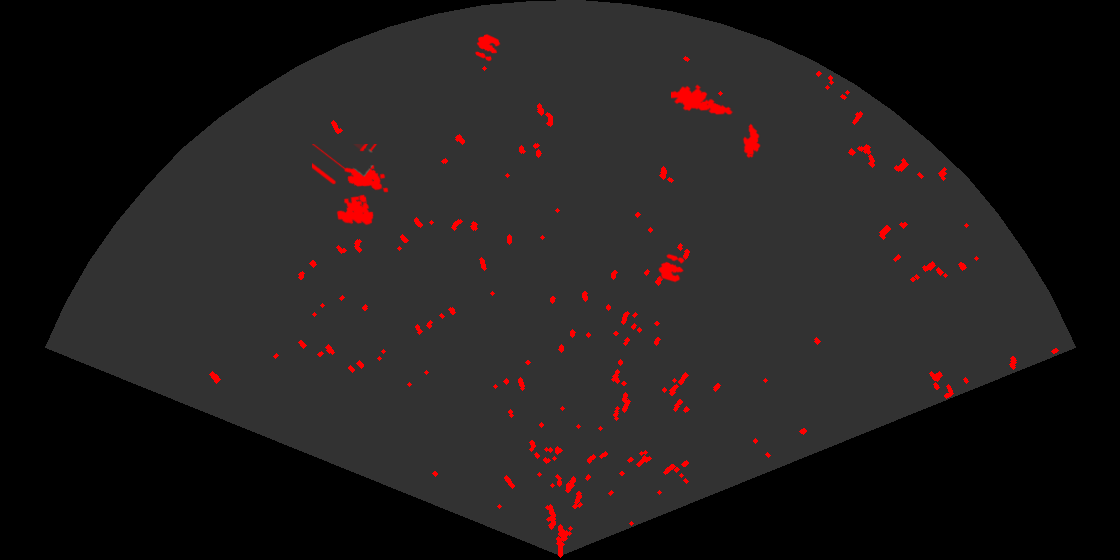AUV: (741, 122, 762, 160)
ball: (657, 252, 686, 284), (473, 32, 502, 63)
cage: (312, 144, 390, 227)
frogman: (671, 83, 734, 116)
